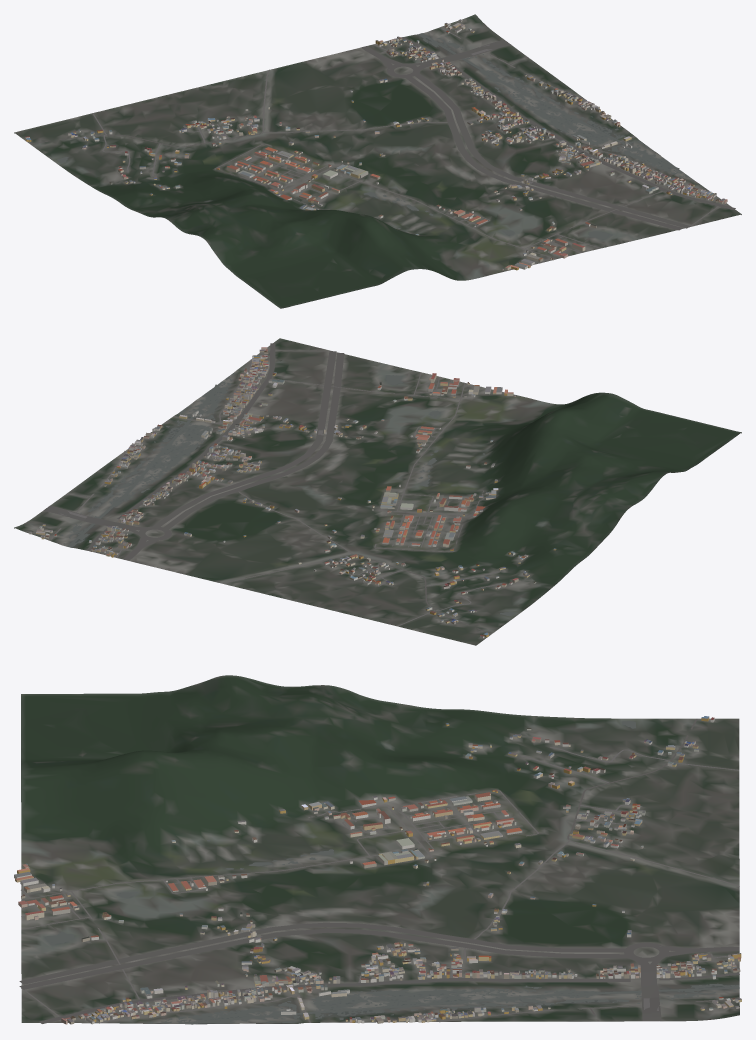
3 views of the same model, one above another, from view 1: azimuth 30°, elevation 25°; view 2: azimuth 150°, elevation 25°; view 3: azimuth 270°, elevation 25° (orthographic). The views are drawn at different scales.
Parts seen in each view (by area): view 1: ground, buildings, roads, water; view 2: ground, buildings, roads, water; view 3: ground, buildings, roads, water.
Boxes of the visible parts, left/top/right/bottom form: ground: left=14, top=14, right=741, bottom=308; buildings: left=25, top=19, right=727, bottom=270; roads: left=30, top=27, right=735, bottom=262; water: left=57, top=32, right=694, bottom=239; ground: left=14, top=338, right=741, bottom=645; buildings: left=29, top=347, right=556, bottom=638; roads: left=43, top=343, right=501, bottom=634; water: left=61, top=373, right=514, bottom=616; ground: left=21, top=675, right=739, bottom=1024; buildings: left=14, top=716, right=741, bottom=1024; roads: left=19, top=718, right=739, bottom=1023; water: left=45, top=721, right=739, bottom=1024.
Size of the model in its own units: 1412 by 122 by 1421.
